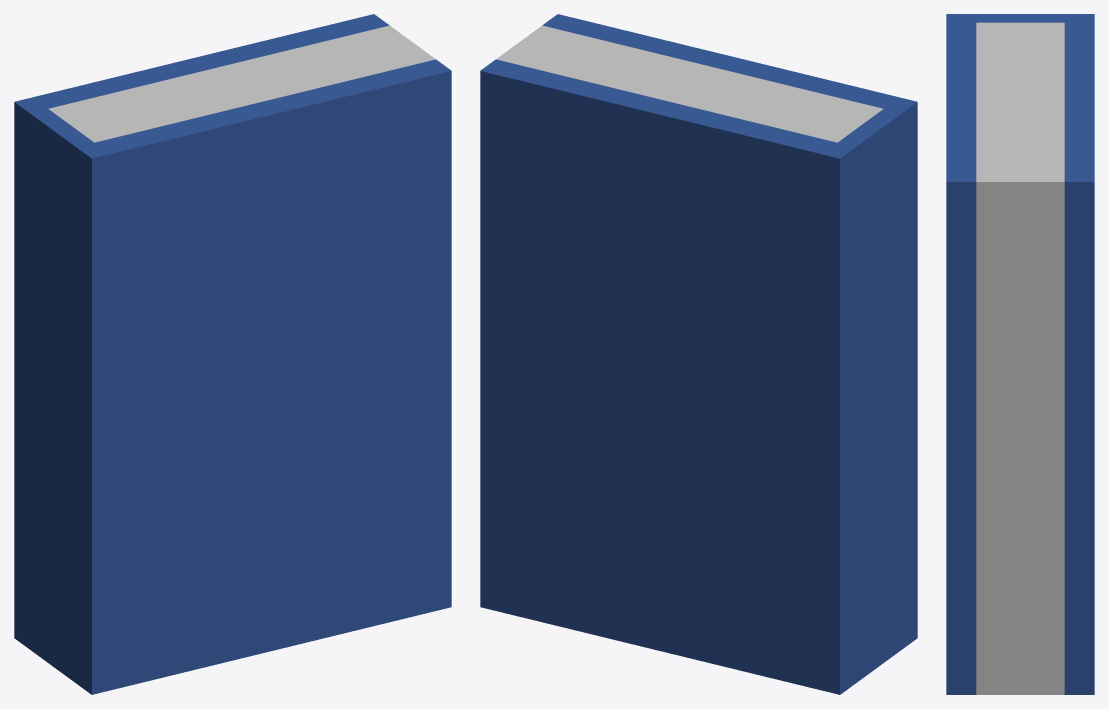
The model's file is SM_Book_03.fbx.
3 renders of one model, left to right at view 1: azimuth 30°, elevation 25°; view 2: azimuth 150°, elevation 25°; view 3: azimuth 270°, elevation 25°, orthographic. The views are drawn at different scales.
Visible parts, largest first — view 1: SM_Book_03; view 2: SM_Book_03; view 3: SM_Book_03.
Boxes of the visible parts, x1,y1,x2,y2 form: SM_Book_03: (14,14,451,694); SM_Book_03: (480,14,917,694); SM_Book_03: (946,14,1094,694).
Size of the model in its own units: 20.36 by 29 by 7.61.
Materials: 1 (1 with a texture image).
